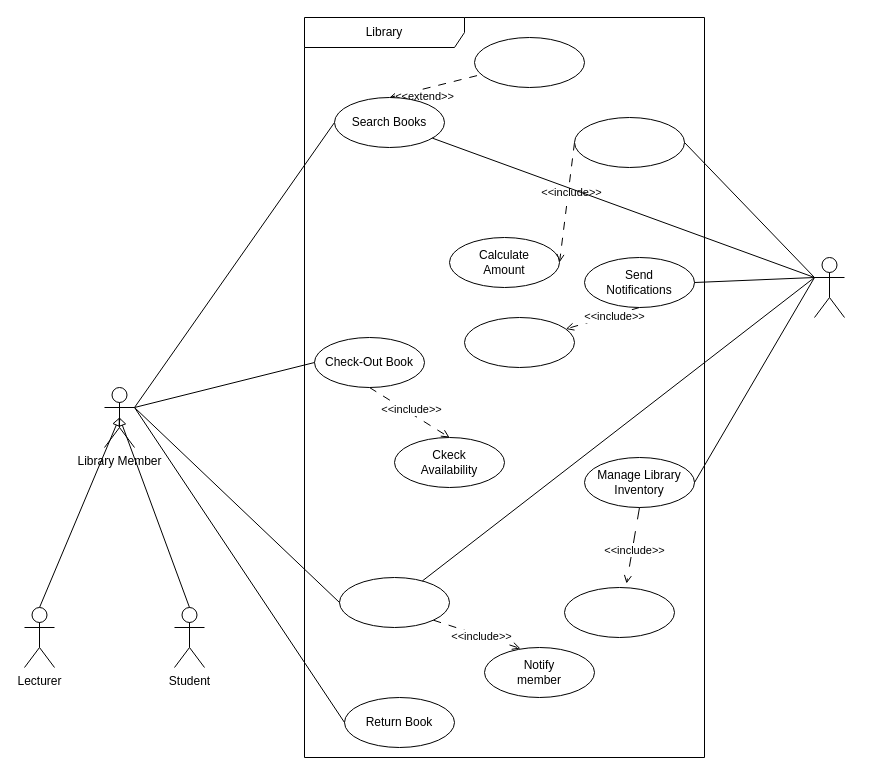
Image size: 870x775. Some labels were removed from this diagram. Here are the shapes that lost their labels. From the top down, the centre of each, then its label:
At pixel 529 62: "Search History".
At pixel 629 142: "Collect Fine".
At pixel 829 287: "Librarian".
At pixel 519 342: "Monitoring Availability".
At pixel 394 602: "Reserve Book".
At pixel 619 612: "CRUD Operation".
